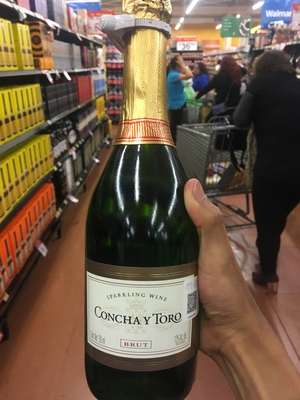brut: (71, 23, 209, 400)
